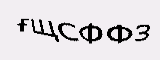З: (134, 19, 151, 44)
С: (57, 19, 80, 40)
Ф: (105, 22, 134, 47), (79, 22, 102, 45)
Щ: (30, 18, 59, 42)
Ғ: (12, 15, 30, 33)
